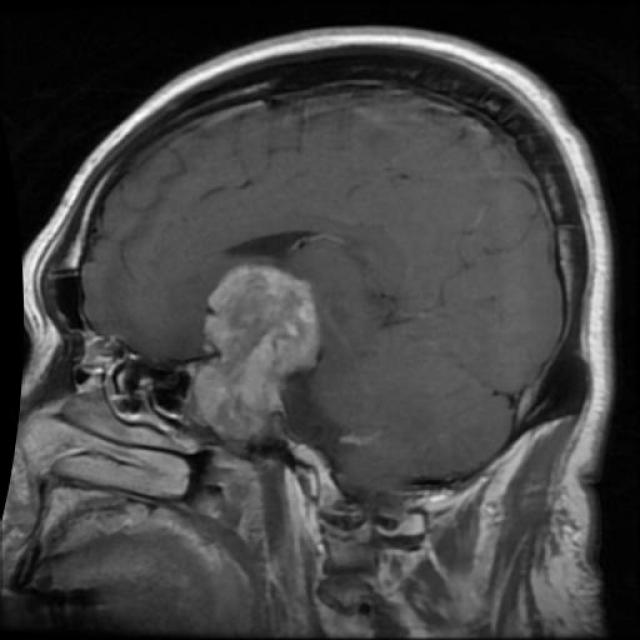Brain-Tumor: (178, 250, 332, 452)
